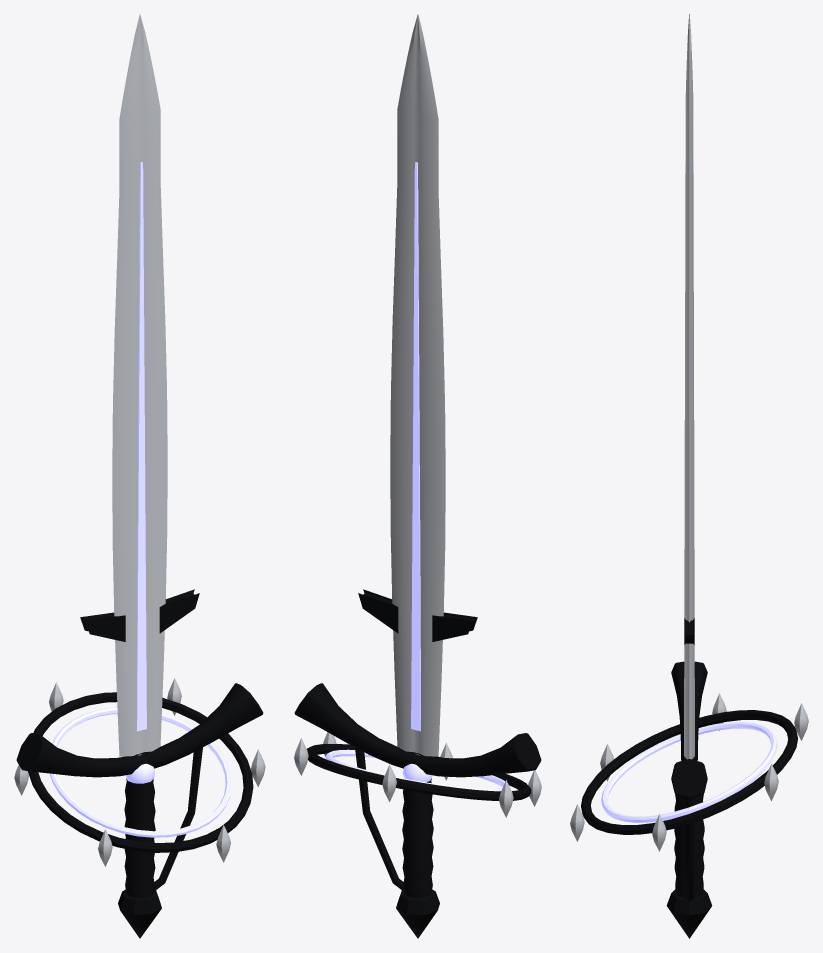
File: esc_w_shadowblade_sword_3.glb
3 renders of one model, left to right at view 1: azimuth 30°, elevation 25°; view 2: azimuth 150°, elevation 25°; view 3: azimuth 270°, elevation 25°, orthographic.
Visible parts, largest first — view 1: esc_w_shadowblade_sword_3; view 2: esc_w_shadowblade_sword_3; view 3: esc_w_shadowblade_sword_3.
Part boxes in pixels (bbox=[...]): esc_w_shadowblade_sword_3: bbox=[14, 14, 265, 938]; esc_w_shadowblade_sword_3: bbox=[294, 14, 541, 938]; esc_w_shadowblade_sword_3: bbox=[570, 14, 808, 938].
Size of the model in its own units: 0.3227 by 1.2 by 0.2817.
